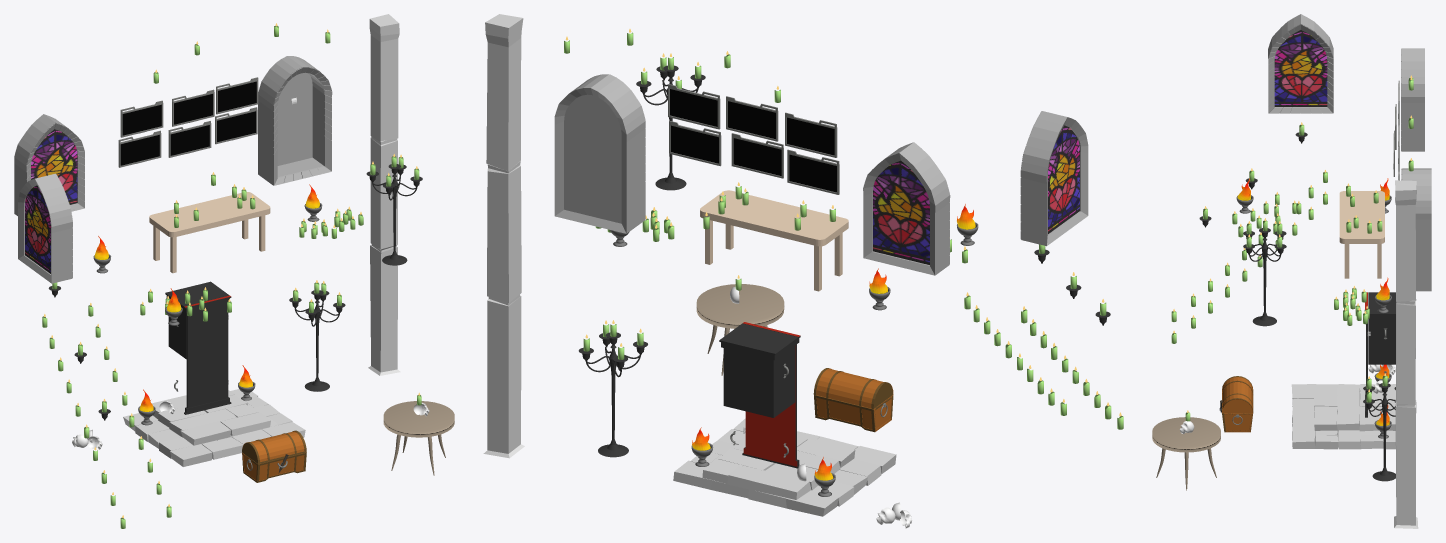
File: items3.glb
3 renders of one model, left to right at view 1: azimuth 30°, elevation 25°; view 2: azimuth 150°, elevation 25°; view 3: azimuth 270°, elevation 25°, orthographic. The views are drawn at different scales.
Visible parts, largest first — view 1: Cube.006, WindowRock.003, CoffinTrigger, RoomStep02, RoomStep01, WindowRock.001, DesktopBase, WindowRock.002, WindowCrystal01.002, TableBase, WindowCrystal01.003, CoffinBase (+9 smaller); view 2: Cube.006, WindowRock.003, CoffinBase, RoomStep02, WindowRock.001, WindowCrystal01.004, RoomStep01, WindowRock.002, DesktopBase, TableBase, CoffinTrigger, WindowCrystal01.003 (+9 smaller); view 3: Cube.006, WindowCrystal01.001, RoomStep02, RoomStep01, WindowRock.002, WindowRock.001, WindowRock.003, DesktopBase, TableBase, CoffinBase, ChestTrigger, ChestBase (+2 smaller).
Boxes of the visible parts, x1=… form: Cube.006: x1=368, y1=14, x2=400, y2=375; WindowRock.003: x1=258, y1=56, x2=332, y2=185; CoffinTrigger: x1=184, y1=295, x2=231, y2=414; RoomStep02: x1=123, y1=389, x2=305, y2=466; RoomStep01: x1=152, y1=390, x2=270, y2=445; WindowRock.001: x1=18, y1=173, x2=72, y2=283; DesktopBase: x1=149, y1=192, x2=270, y2=237; WindowRock.002: x1=14, y1=114, x2=84, y2=215; WindowCrystal01.002: x1=31, y1=129, x2=77, y2=204; TableBase: x1=383, y1=401, x2=454, y2=437; WindowCrystal01.003: x1=25, y1=185, x2=50, y2=273; CoffinBase: x1=165, y1=281, x2=229, y2=359; Cube.006: x1=483, y1=14, x2=524, y2=458; WindowRock.003: x1=554, y1=74, x2=645, y2=233; CoffinBase: x1=719, y1=323, x2=798, y2=417; RoomStep02: x1=673, y1=418, x2=896, y2=516; WindowRock.001: x1=1020, y1=111, x2=1088, y2=246; WindowCrystal01.004: x1=873, y1=160, x2=929, y2=264; RoomStep01: x1=702, y1=436, x2=855, y2=499; WindowRock.002: x1=863, y1=142, x2=950, y2=275; DesktopBase: x1=700, y1=190, x2=848, y2=246; TableBase: x1=696, y1=284, x2=784, y2=328; CoffinTrigger: x1=742, y1=322, x2=800, y2=468; WindowCrystal01.003: x1=1048, y1=125, x2=1079, y2=233; Cube.006: x1=1394, y1=180, x2=1418, y2=528; WindowCrystal01.001: x1=1274, y1=30, x2=1327, y2=106; RoomStep02: x1=1291, y1=384, x2=1395, y2=449; RoomStep01: x1=1313, y1=387, x2=1395, y2=431; WindowRock.002: x1=1401, y1=48, x2=1424, y2=151; WindowRock.001: x1=1268, y1=14, x2=1333, y2=113; WindowRock.003: x1=1401, y1=168, x2=1431, y2=291; DesktopBase: x1=1339, y1=191, x2=1384, y2=243; TableBase: x1=1152, y1=417, x2=1220, y2=452; CoffinBase: x1=1368, y1=292, x2=1395, y2=364; ChestTrigger: x1=1222, y1=376, x2=1253, y2=412; ChestBase: x1=1222, y1=391, x2=1253, y2=432.
Bounding box in the file's own units: 20.37 × 17.5 × 12.32.
20 materials, 2 textured.
